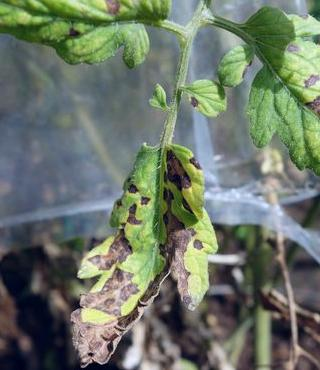Tomato Septoria leaf spot: (62, 136, 217, 370), (221, 3, 320, 200), (0, 0, 179, 70)
